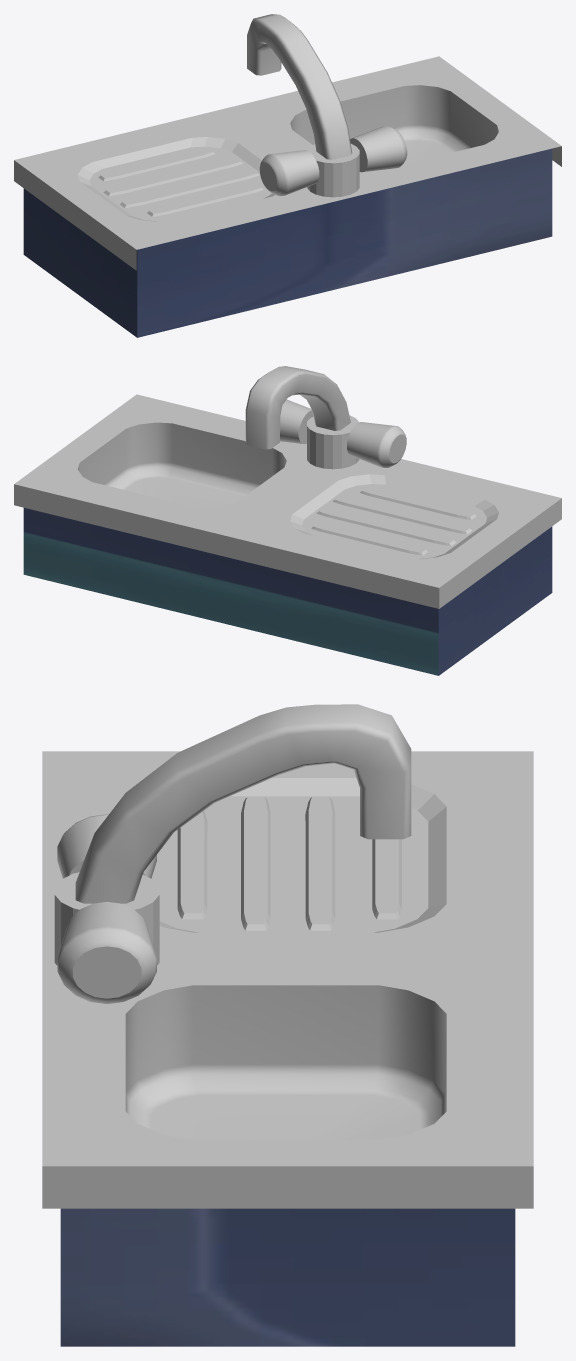
Rendered from Sink.fbx.
3 views of the same model, one above another, from view 1: azimuth 30°, elevation 25°; view 2: azimuth 150°, elevation 25°; view 3: azimuth 270°, elevation 25° (orthographic). The views are drawn at different scales.
Visible parts, largest first — view 1: Sink; view 2: Sink; view 3: Sink.
Boxes of the visible parts, bbox=[...] form: Sink: bbox=[14, 14, 561, 337]; Sink: bbox=[14, 366, 561, 675]; Sink: bbox=[42, 704, 533, 1346].
Size of the model in its own units: 2.4 by 1.16 by 1.2.
